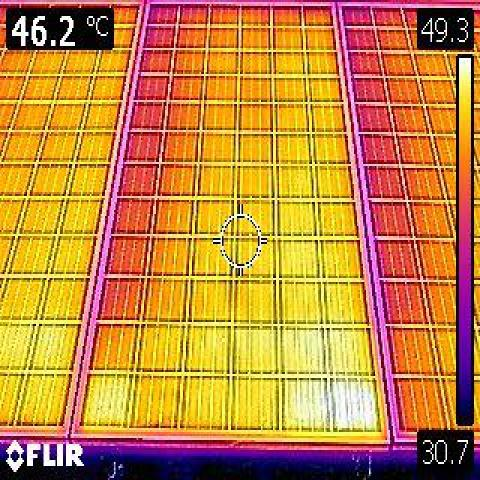fault: (330, 377, 379, 434)
